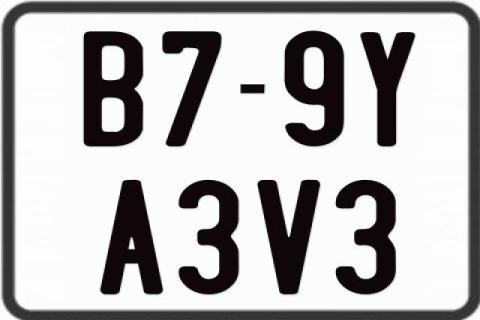0: (333, 178, 397, 296), (177, 178, 238, 298), (281, 29, 341, 147), (159, 31, 219, 147)
A: (99, 180, 167, 298)
B: (82, 30, 144, 148)
V: (258, 178, 321, 296)
Y: (358, 31, 414, 148)
